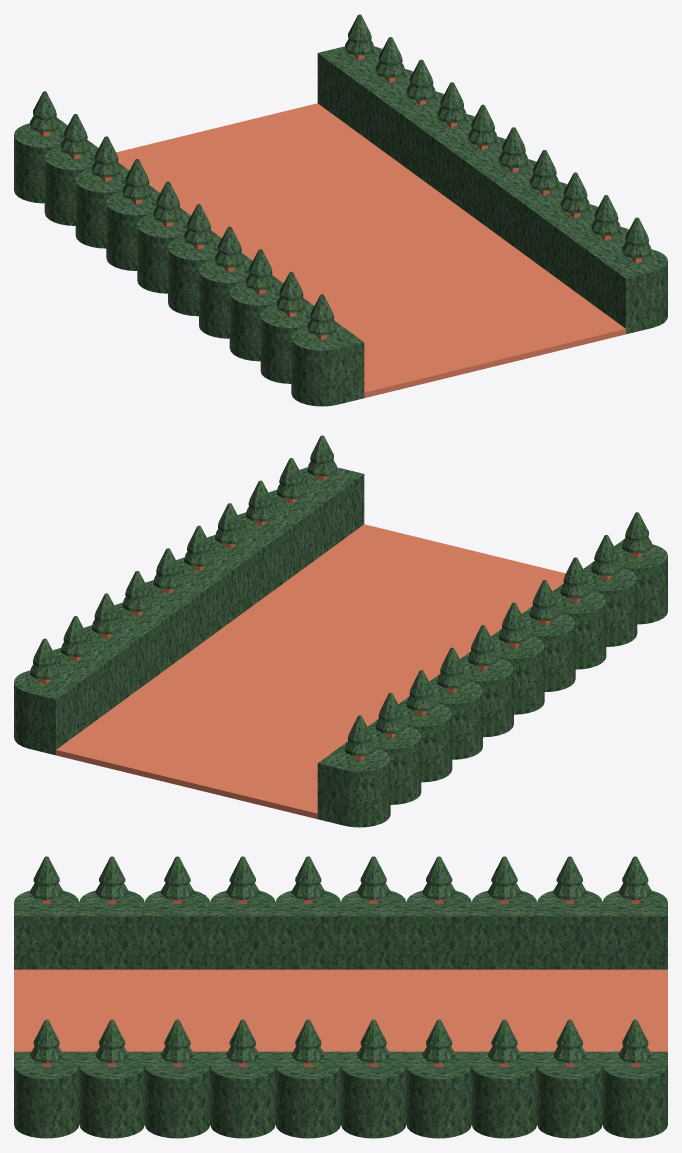
File: floorTree.fbx
3 renders of one model, top to bottom at view 1: azimuth 30°, elevation 25°; view 2: azimuth 150°, elevation 25°; view 3: azimuth 270°, elevation 25°, orthographic. The views are drawn at different scales.
Visible parts, largest first — view 1: porch_floorCenter (×41), block_round (×20), detail_treeLarge (×20); view 2: porch_floorCenter (×41), block_round (×20), detail_treeLarge (×20); view 3: block_round (×20), porch_floorCenter (×30), detail_treeLarge (×20).
Part boxes in pixels (bbox=[...]): porch_floorCenter (×41): bbox=[116, 103, 625, 397]; block_round (×20): bbox=[14, 46, 667, 406]; detail_treeLarge (×20): bbox=[30, 14, 651, 339]; porch_floorCenter (×41): bbox=[56, 524, 565, 818]; block_round (×20): bbox=[14, 467, 667, 827]; detail_treeLarge (×20): bbox=[30, 435, 651, 760]; block_round (×20): bbox=[14, 890, 667, 1138]; porch_floorCenter (×30): bbox=[14, 969, 667, 1049]; detail_treeLarge (×20): bbox=[30, 856, 651, 1067].
Bounding box in the file's own units: 69 × 17.6 × 100.
